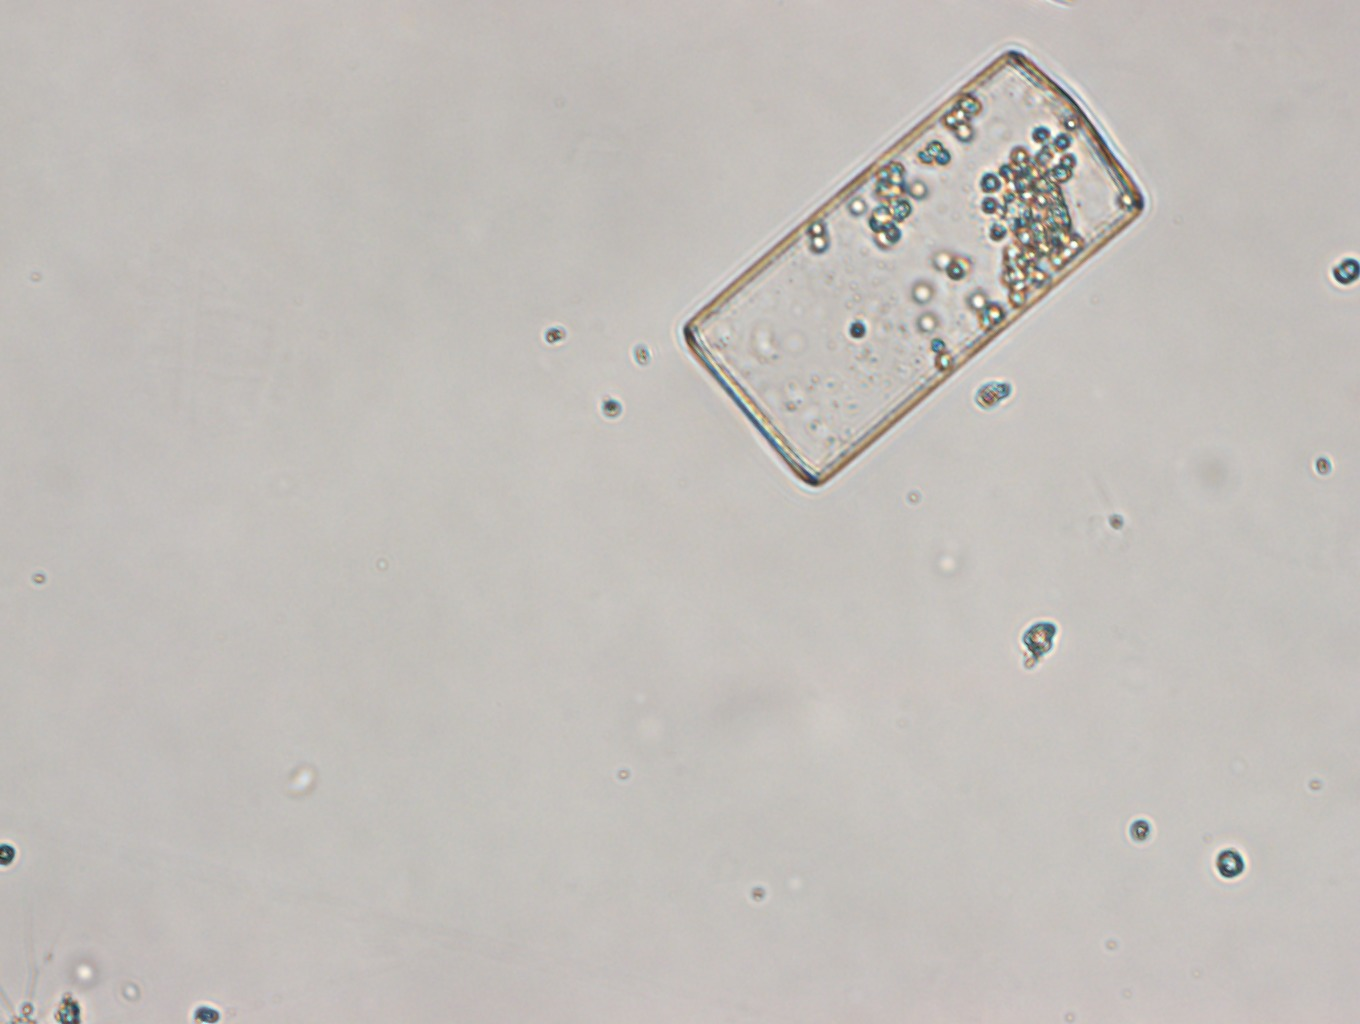guinardia flaccida: (678, 37, 1153, 497)
